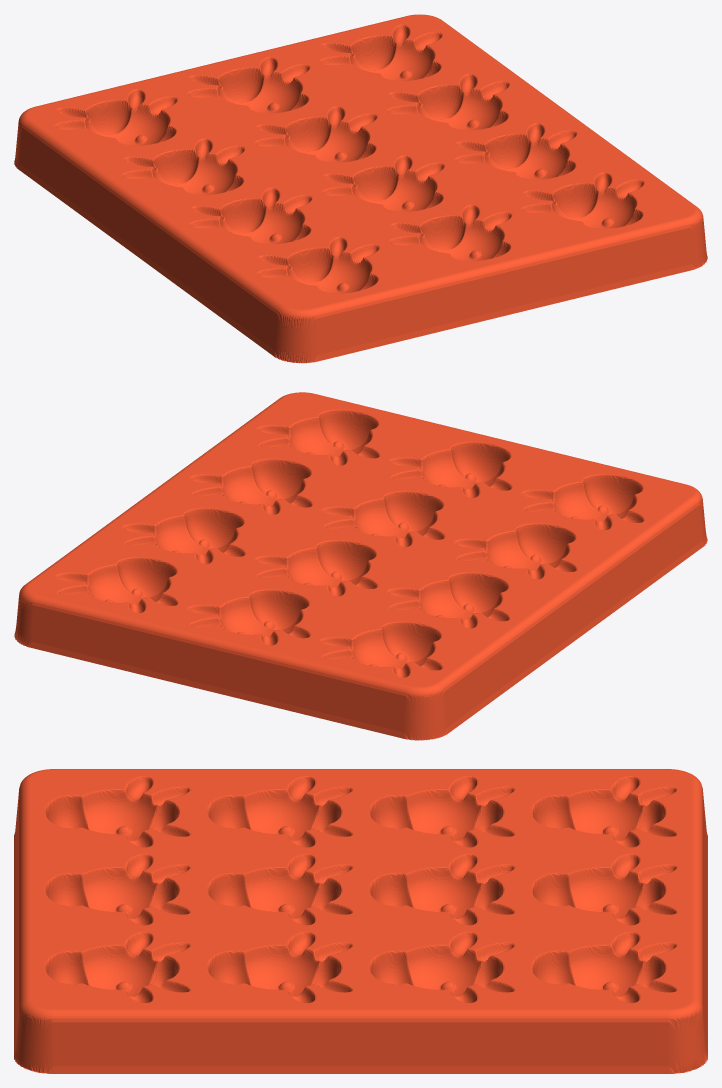
File: mold.glb
3 renders of one model, top to bottom at view 1: azimuth 30°, elevation 25°; view 2: azimuth 150°, elevation 25°; view 3: azimuth 270°, elevation 25°, orthographic. The views are drawn at different scales.
Parts seen in each view (by area): view 1: geometry_0; view 2: geometry_0; view 3: geometry_0.
Part boxes in pixels (x1,y1,x2,y2): geometry_0: [14, 14, 707, 363]; geometry_0: [14, 392, 707, 740]; geometry_0: [14, 769, 707, 1073].
Size of the model in its own units: 0.1356 by 0.0145 by 0.1574.
